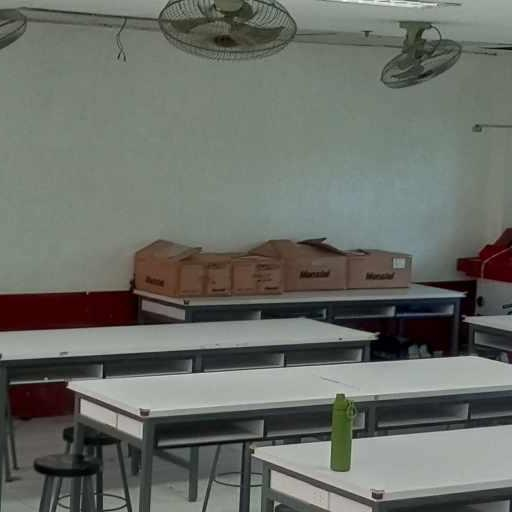Fan: (144, 0, 299, 63), (382, 16, 472, 95), (0, 0, 36, 75)
